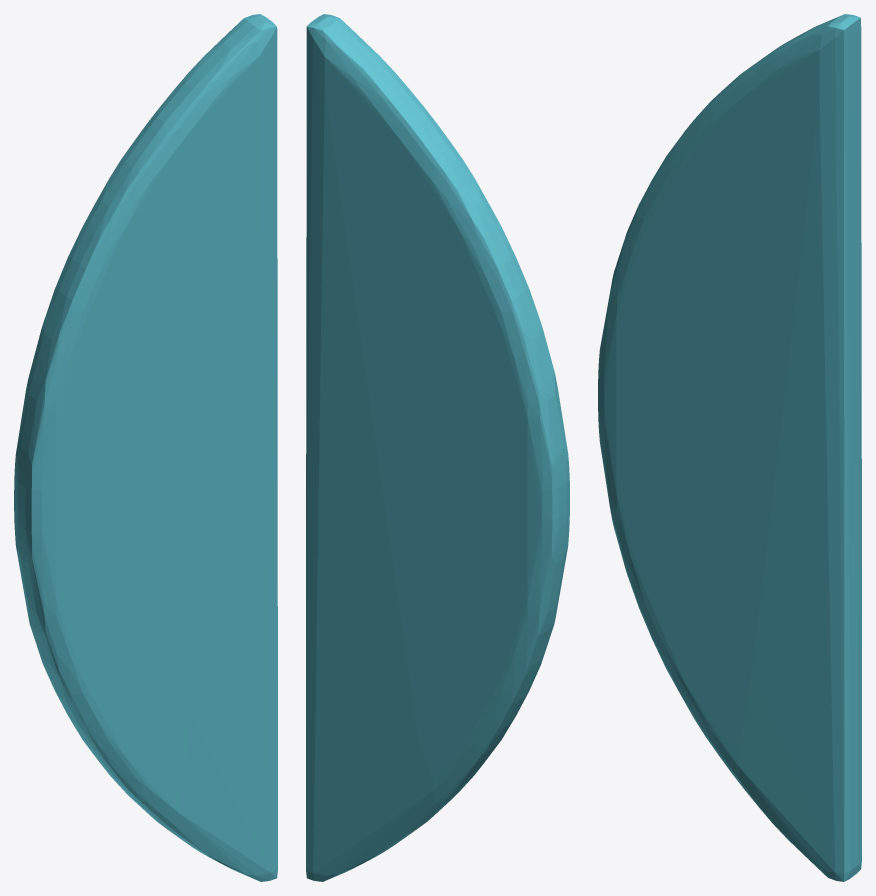
The model's file is left_forearm_0_part_2.obj.
3 views of the same model, side by side, from view 1: azimuth 30°, elevation 25°; view 2: azimuth 150°, elevation 25°; view 3: azimuth 330°, elevation 25° (orthographic).
Bounding box in the file's own units: 35.87 × 118 × 5.89.
